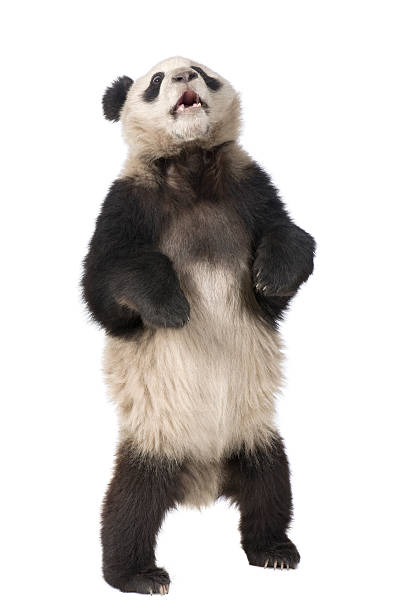panda: (87, 38, 260, 180)
